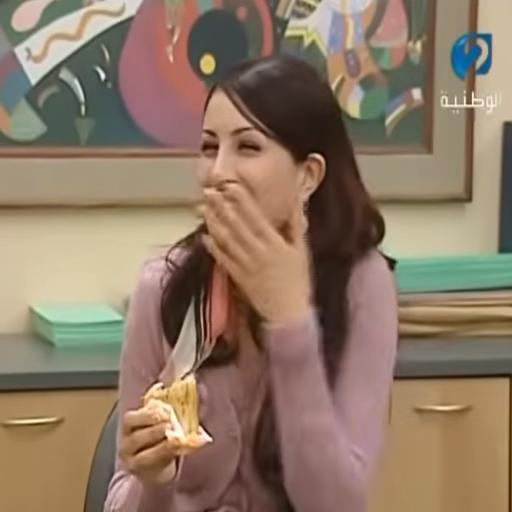Dalanda: (199, 93, 301, 234)
